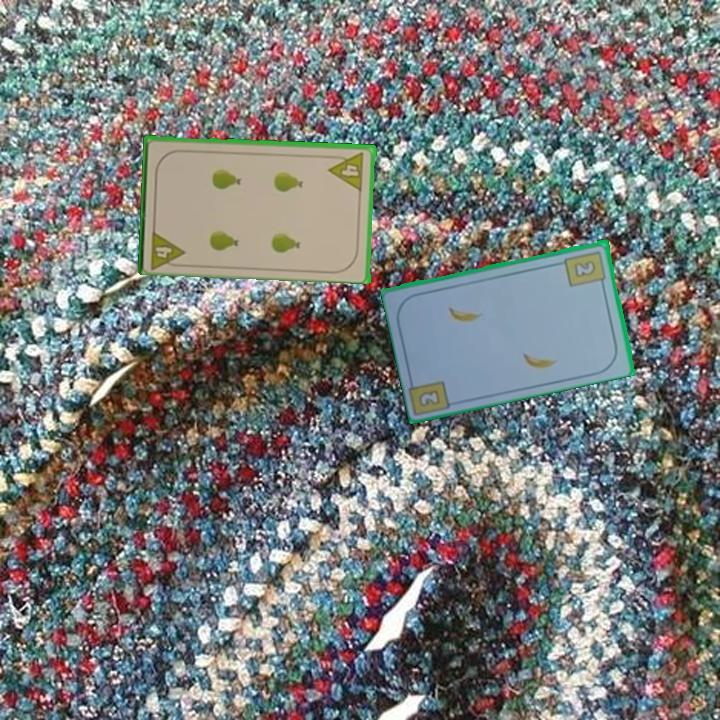2b: (562, 247, 609, 289), (415, 386, 443, 410)
4p: (147, 225, 188, 270), (327, 148, 367, 193)
